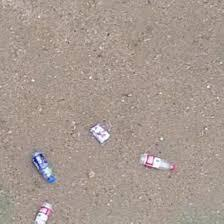plastic: (139, 153, 176, 173), (33, 152, 55, 182), (90, 125, 111, 145), (33, 202, 53, 223)
